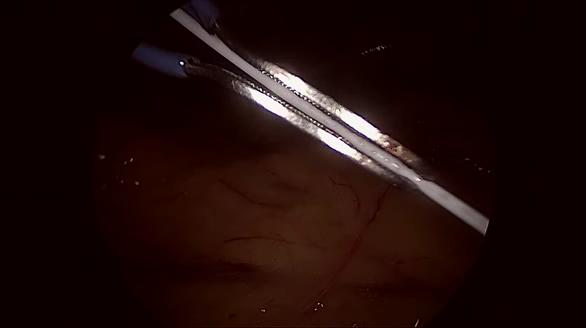Bipolar: (162, 10, 445, 202)
